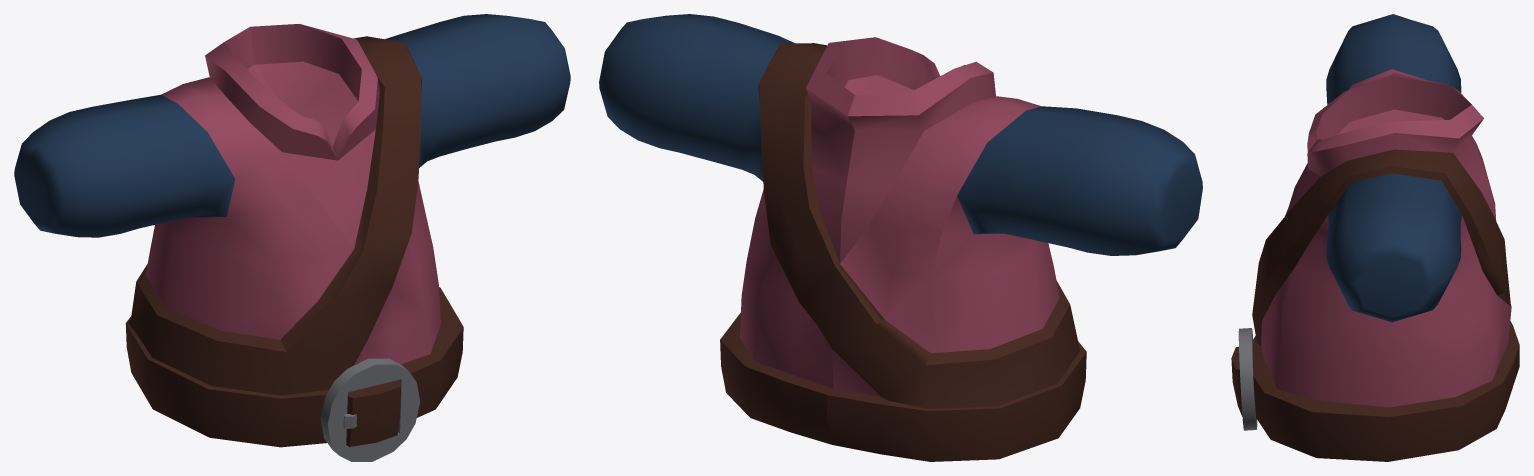
Rendered from Top_5.fbx.
3 views of the same model, side by side, from view 1: azimuth 30°, elevation 25°; view 2: azimuth 150°, elevation 25°; view 3: azimuth 270°, elevation 25° (orthographic). The views are drawn at different scales.
Parts seen in each view (by area): view 1: Top_5; view 2: Top_5; view 3: Top_5.
Part boxes in pixels (<box>): Top_5: <box>14,14,570,461</box>; Top_5: <box>599,14,1202,461</box>; Top_5: <box>1231,14,1519,461</box>.
Size of the model in its own units: 80.73 by 52.37 by 41.81.
